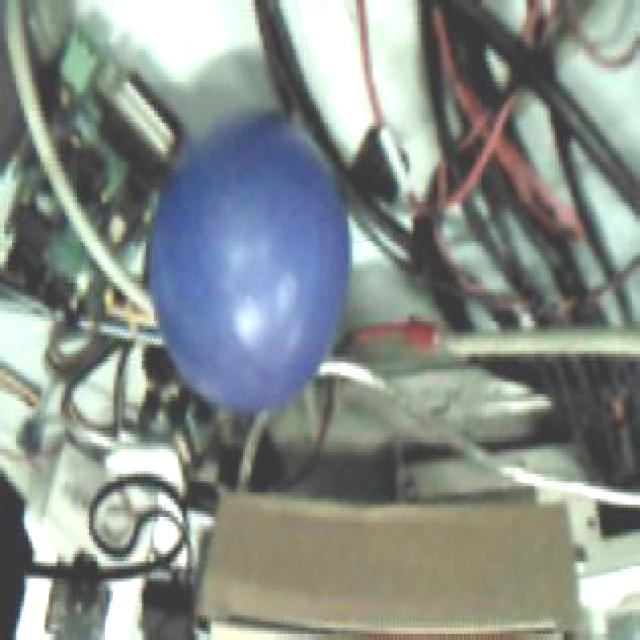BallPurple: (148, 113, 351, 414)
